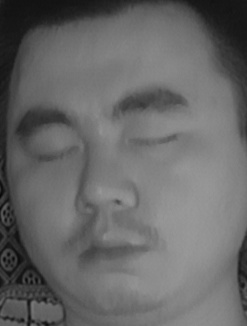blink: (31, 133, 82, 173), (128, 119, 179, 158)
mouth: (72, 219, 154, 274)
